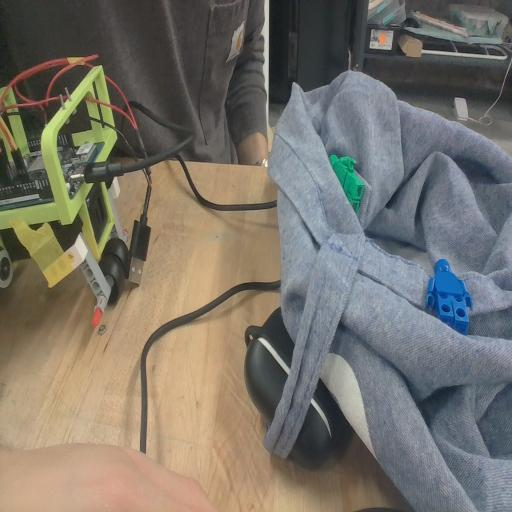blue LEGO minifig: (424, 253, 472, 330)
green LEGO minifig: (327, 147, 366, 213)
